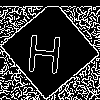H: (25, 25, 65, 74)
